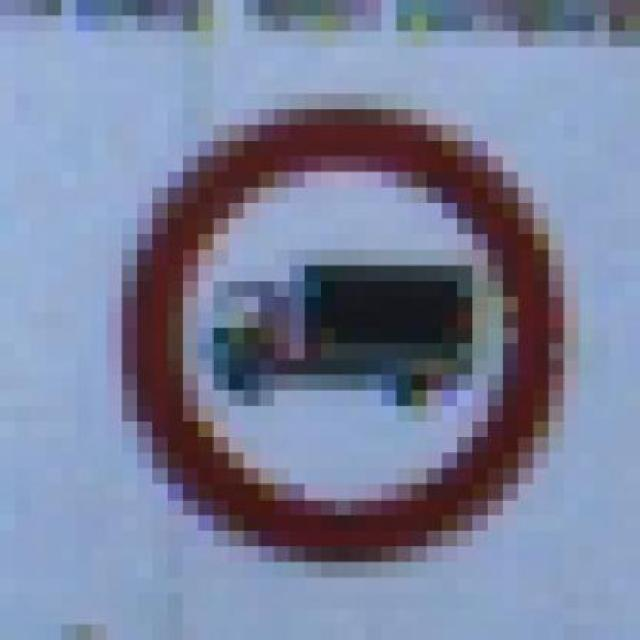Truck traffic is prohibited: (92, 109, 610, 562)
